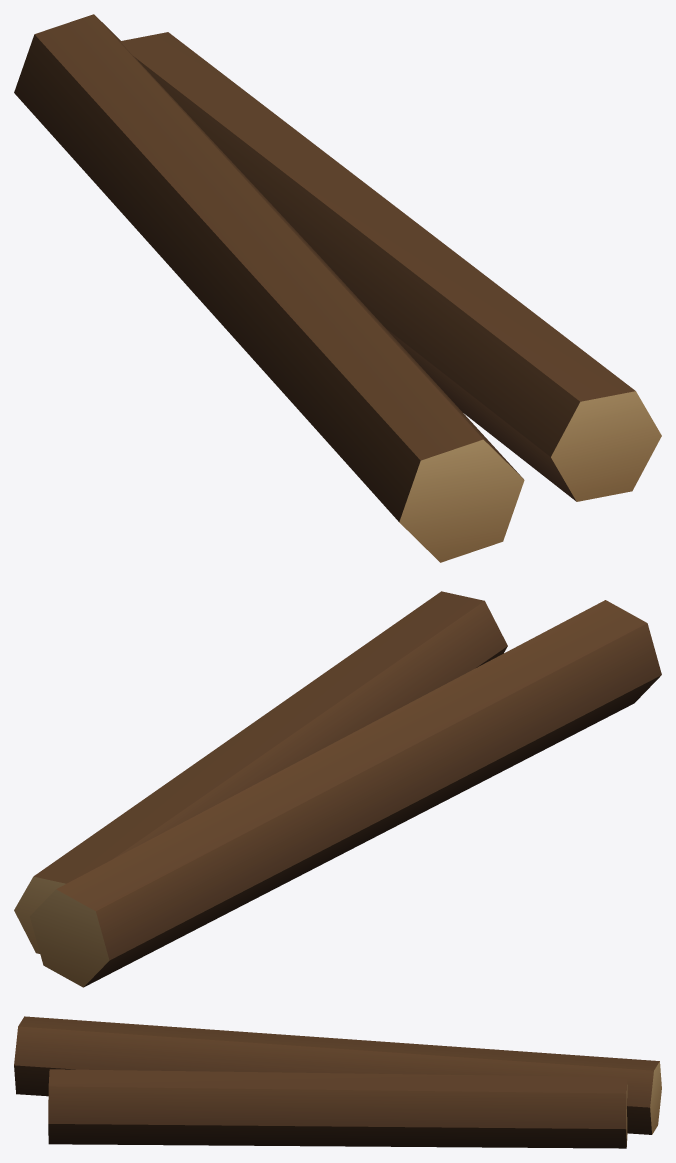
Rendered from FruitLogs.fbx.
3 renders of one model, top to bottom at view 1: azimuth 30°, elevation 25°; view 2: azimuth 150°, elevation 25°; view 3: azimuth 270°, elevation 25°, orthographic. The views are drawn at different scales.
Visible parts, largest first — view 1: FruitLogs_LOD0; view 2: FruitLogs_LOD0; view 3: FruitLogs_LOD0.
Part boxes in pixels (<box>): FruitLogs_LOD0: <box>14,14,661,562</box>; FruitLogs_LOD0: <box>14,591,661,987</box>; FruitLogs_LOD0: <box>14,1016,661,1148</box>.
Size of what is drawn, in the model's own units: 0.7831 by 0.2909 by 2.47.
1 material, 1 textured.
